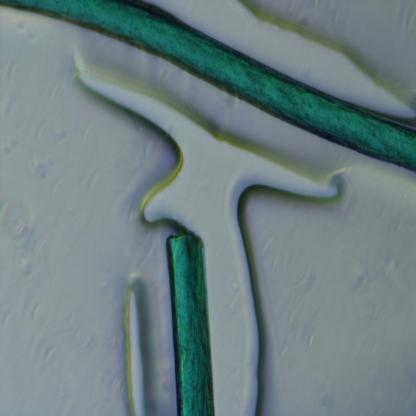Air bubble: (75, 61, 350, 233), (217, 1, 416, 109), (226, 179, 287, 415), (119, 278, 151, 415)
Microfibre: (0, 0, 416, 174), (164, 236, 216, 415)
